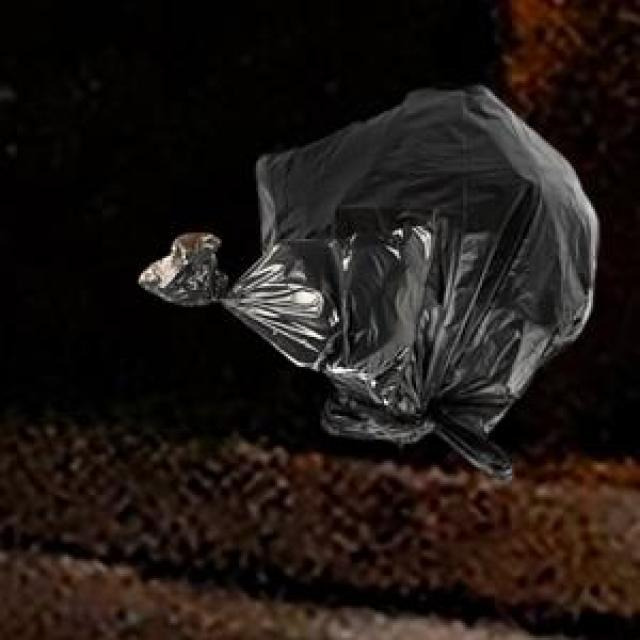Trashbag: (141, 78, 604, 486)
